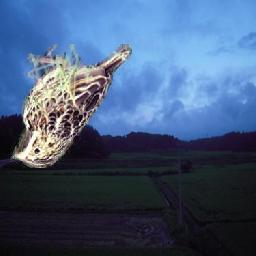Sparrow: (10, 44, 132, 168)
